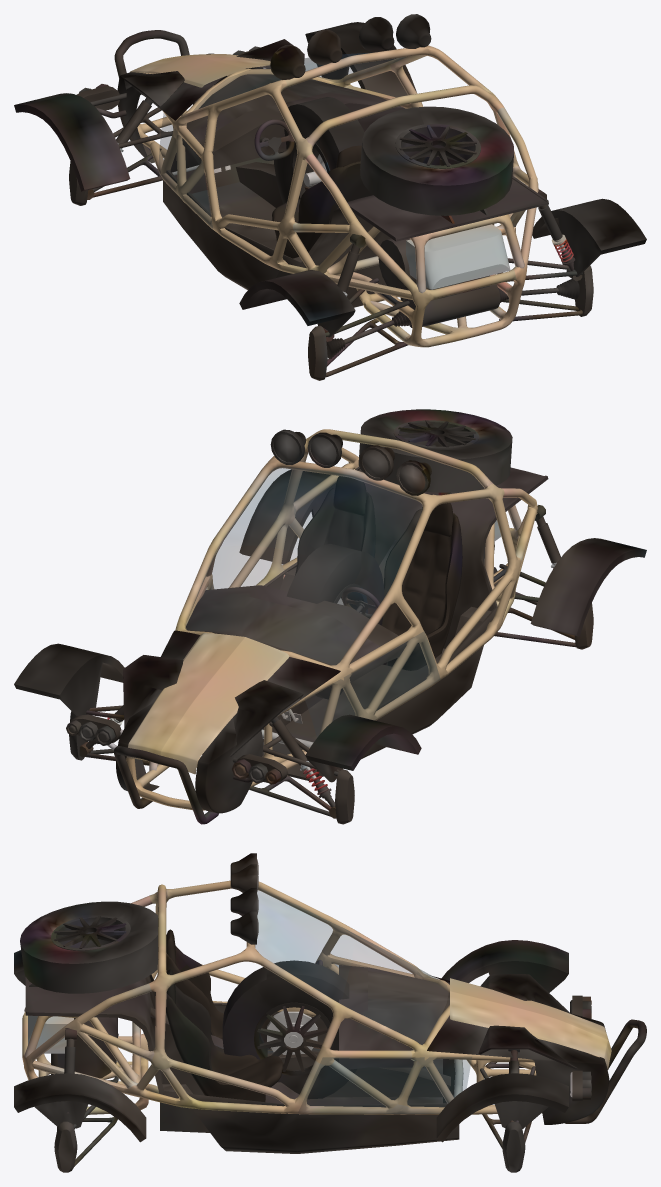
File: dunebuggy.q1.glb
The picture shows the model from 3 angles, top to bottom: view 1: azimuth 30°, elevation 25°; view 2: azimuth 150°, elevation 25°; view 3: azimuth 270°, elevation 25°; orthographic projection. The views are drawn at different scales.
Parts seen in each view (by area): view 1: dunebuggy, dunebuggy_wheel; view 2: dunebuggy, dunebuggy_wheel; view 3: dunebuggy, dunebuggy_wheel.
Part boxes in pixels (x1,y1,x2,y2): dunebuggy: (14,14,646,380); dunebuggy_wheel: (273,97,364,203); dunebuggy: (14,409,646,824); dunebuggy_wheel: (286,544,384,699); dunebuggy: (14,853,646,1172); dunebuggy_wheel: (222,960,356,1099).
Bounding box in the file's own units: 2.55 × 1.8 × 4.42.
2 materials, 2 textured.
